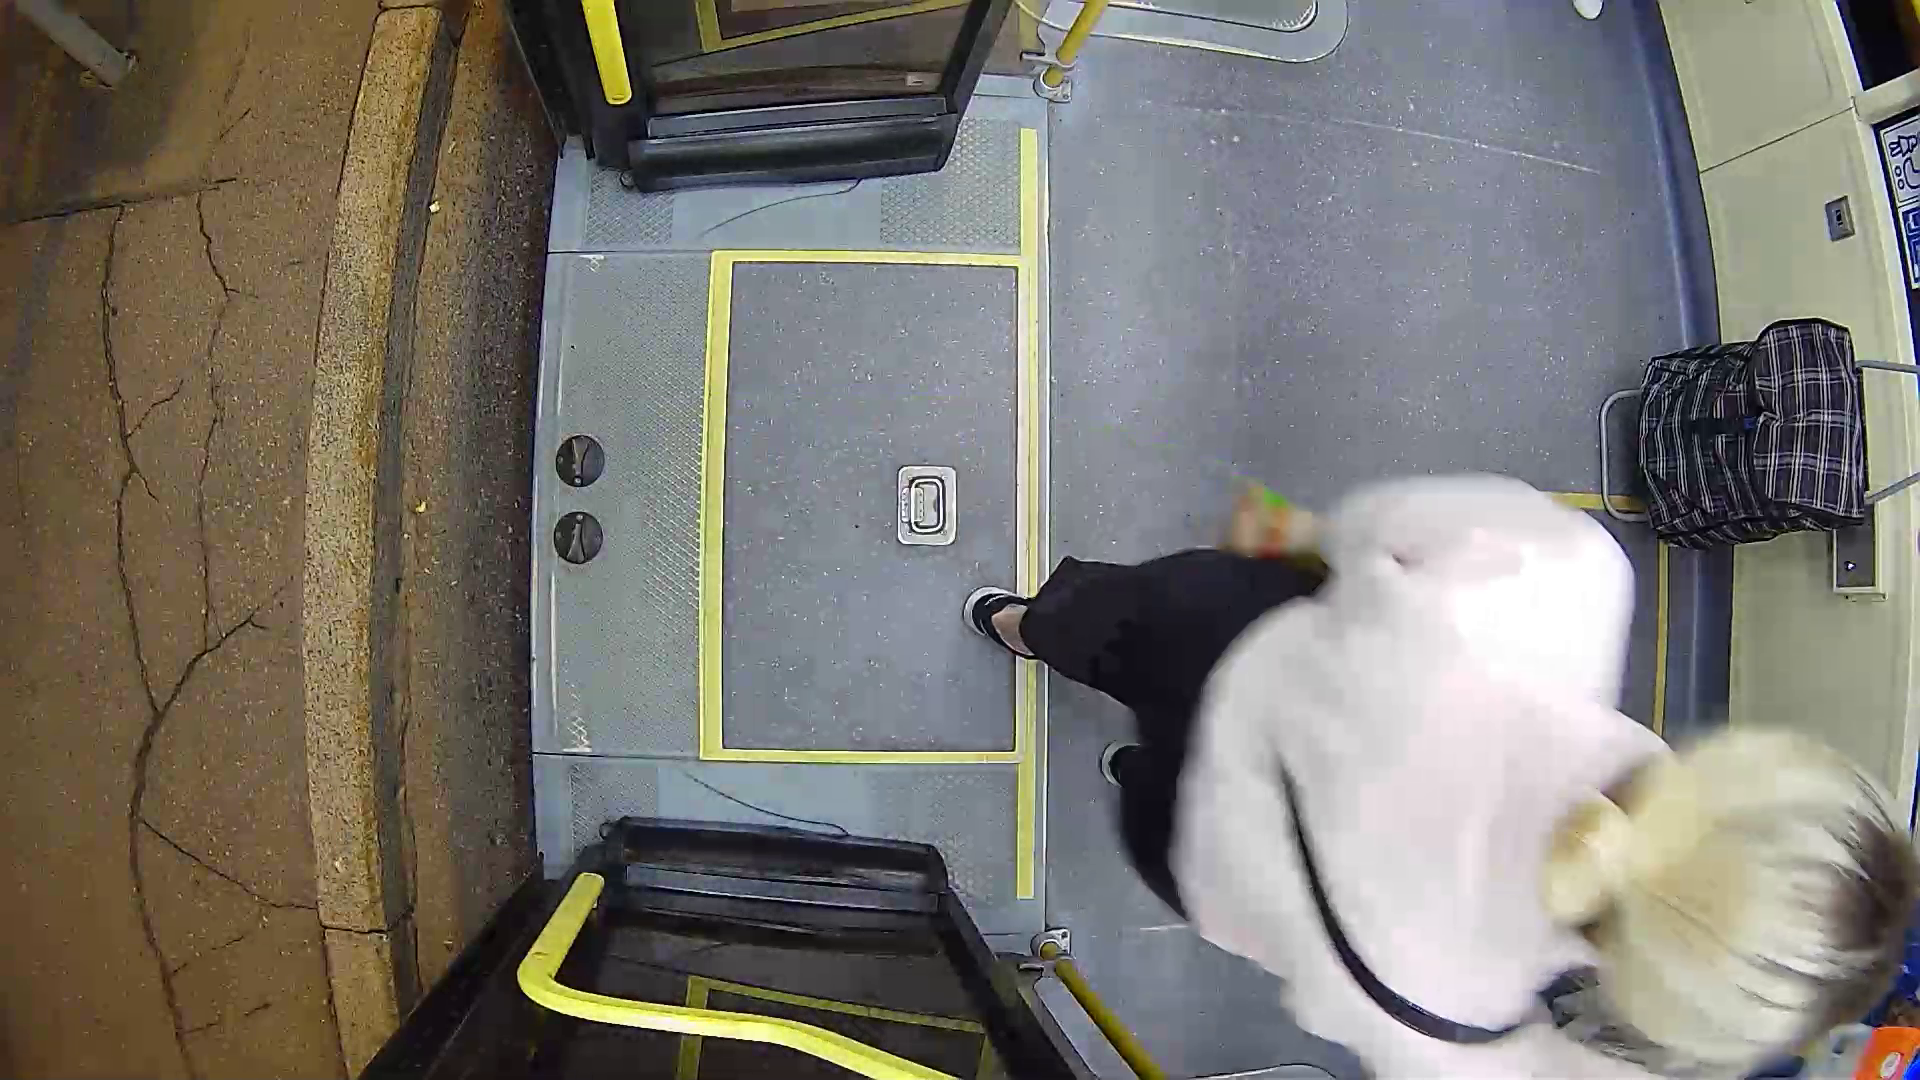person: (904, 400, 1905, 1055)
